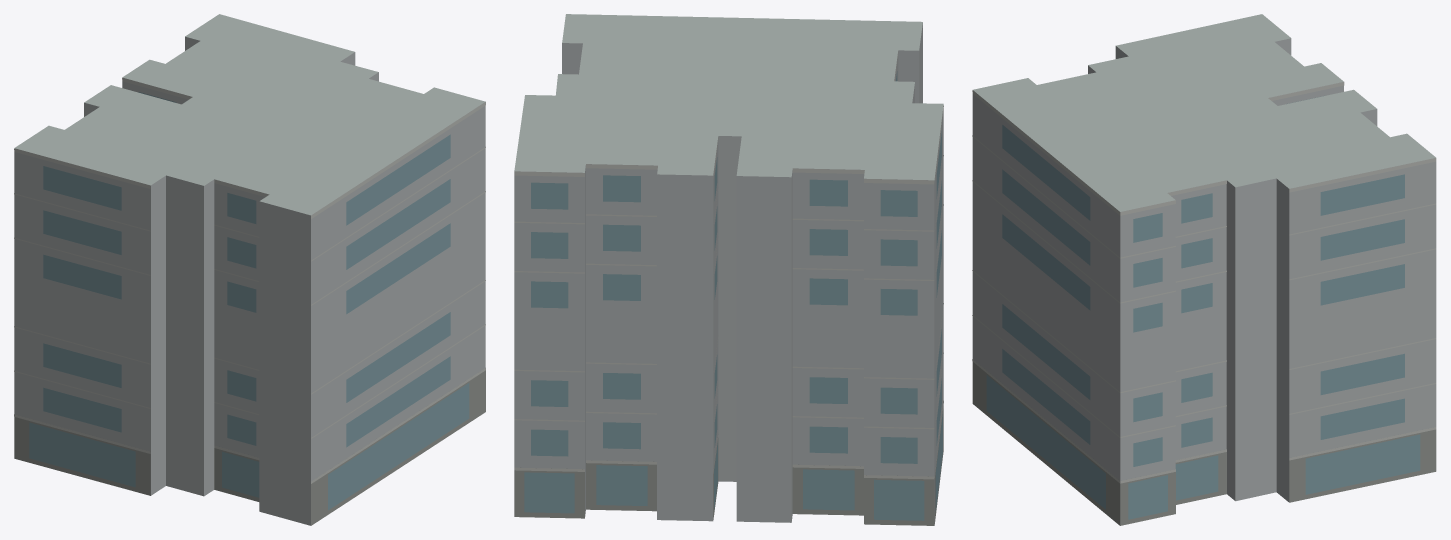
File: survey-upis-32840394.glb
The picture shows the model from 3 angles, left to right: view 1: azimuth 30°, elevation 25°; view 2: azimuth 150°, elevation 25°; view 3: azimuth 270°, elevation 25°; orthographic projection. The views are drawn at different scales.
Visible parts, largest first — view 1: survey-upis-32840394.tmp; view 2: survey-upis-32840394.tmp; view 3: survey-upis-32840394.tmp.
Part boxes in pixels (x1,y1,x2,y2): survey-upis-32840394.tmp: (14, 14, 485, 525); survey-upis-32840394.tmp: (514, 14, 943, 525); survey-upis-32840394.tmp: (972, 14, 1436, 525).
Bounding box in the file's own units: 27.15 × 20.05 × 26.87.
